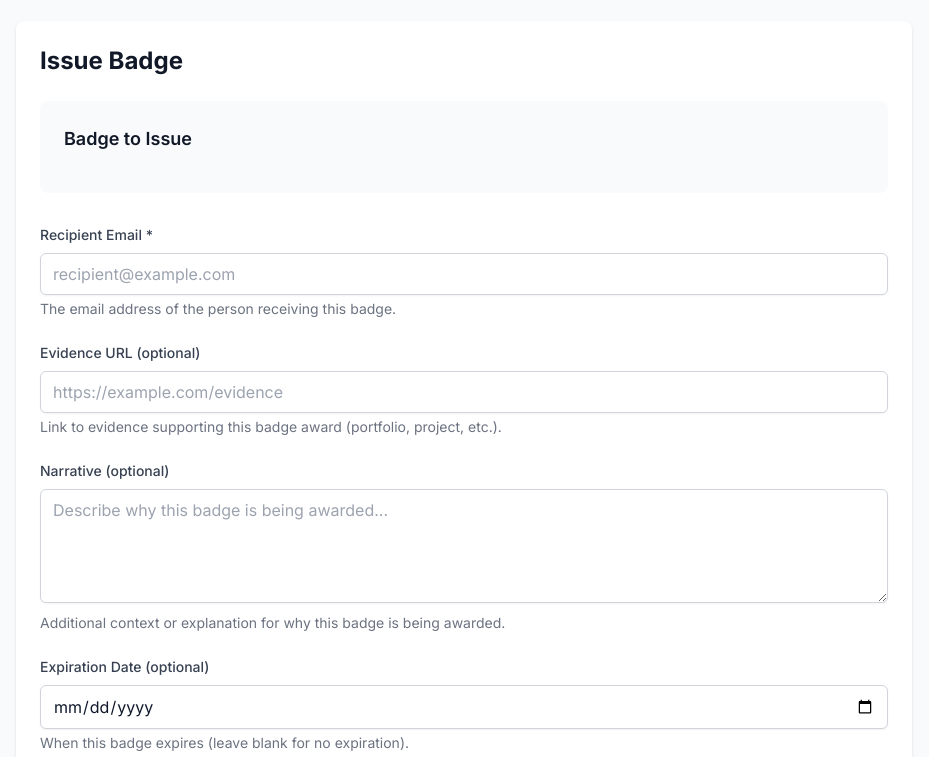
Badge Issuance Validation › should handle server validation errors
Type "test@example.com" into the field with id "recipient-email" at (464, 274), box left=40, top=253, right=888, bottom=295
(page scrolled)
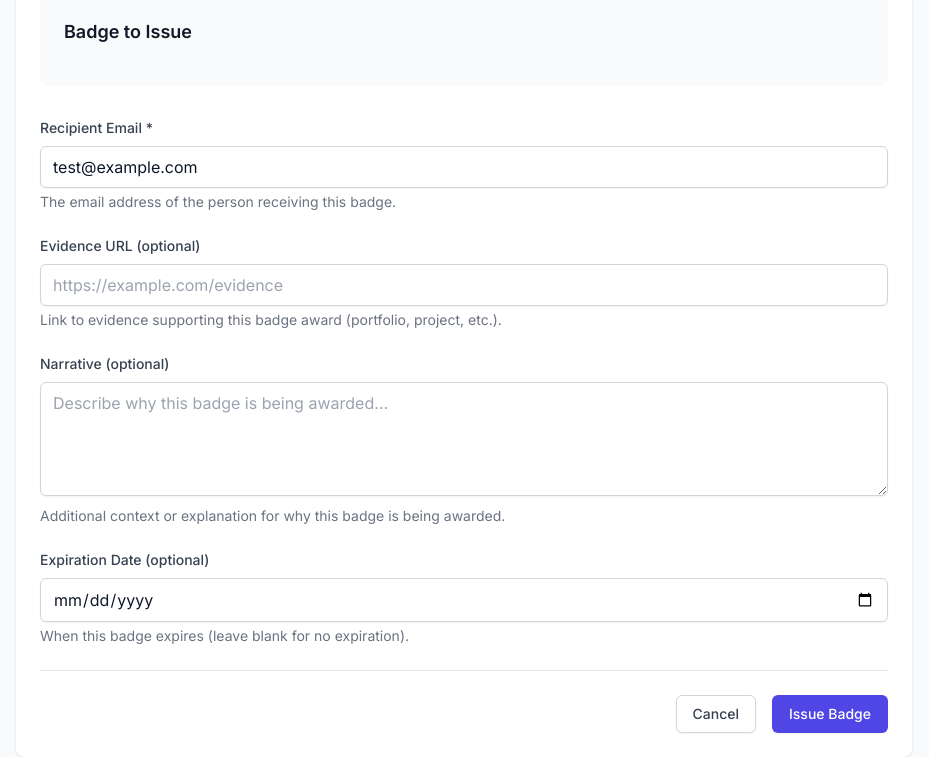
Submit the form
(page scrolled)
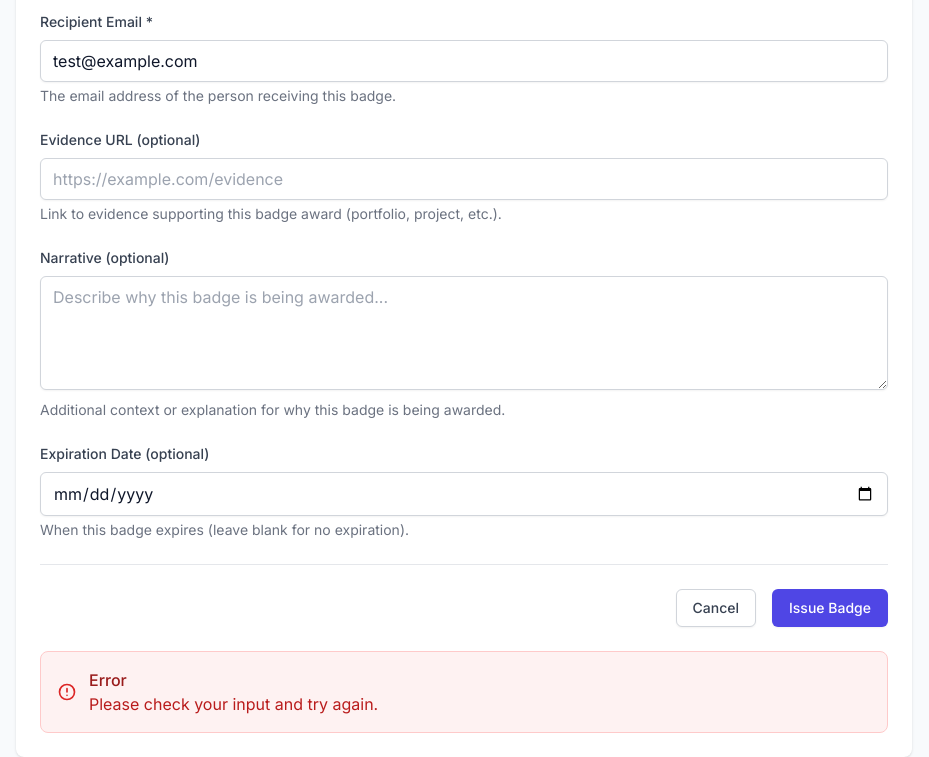
expect the message "Error Please check your input and try again." is shown: met, box left=40, top=651, right=888, bottom=733
